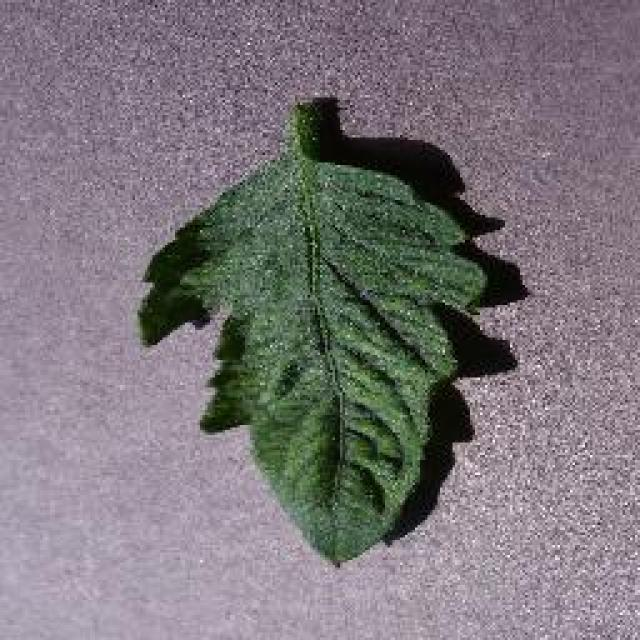Tomato___Tomato_mosaic_virus: (140, 102, 485, 558)
